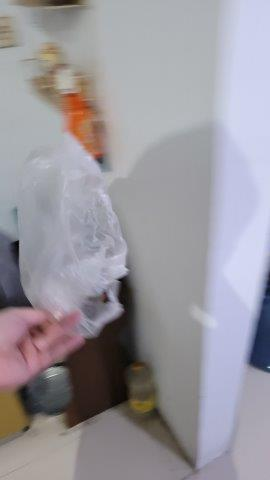plastik: (15, 131, 130, 343)
